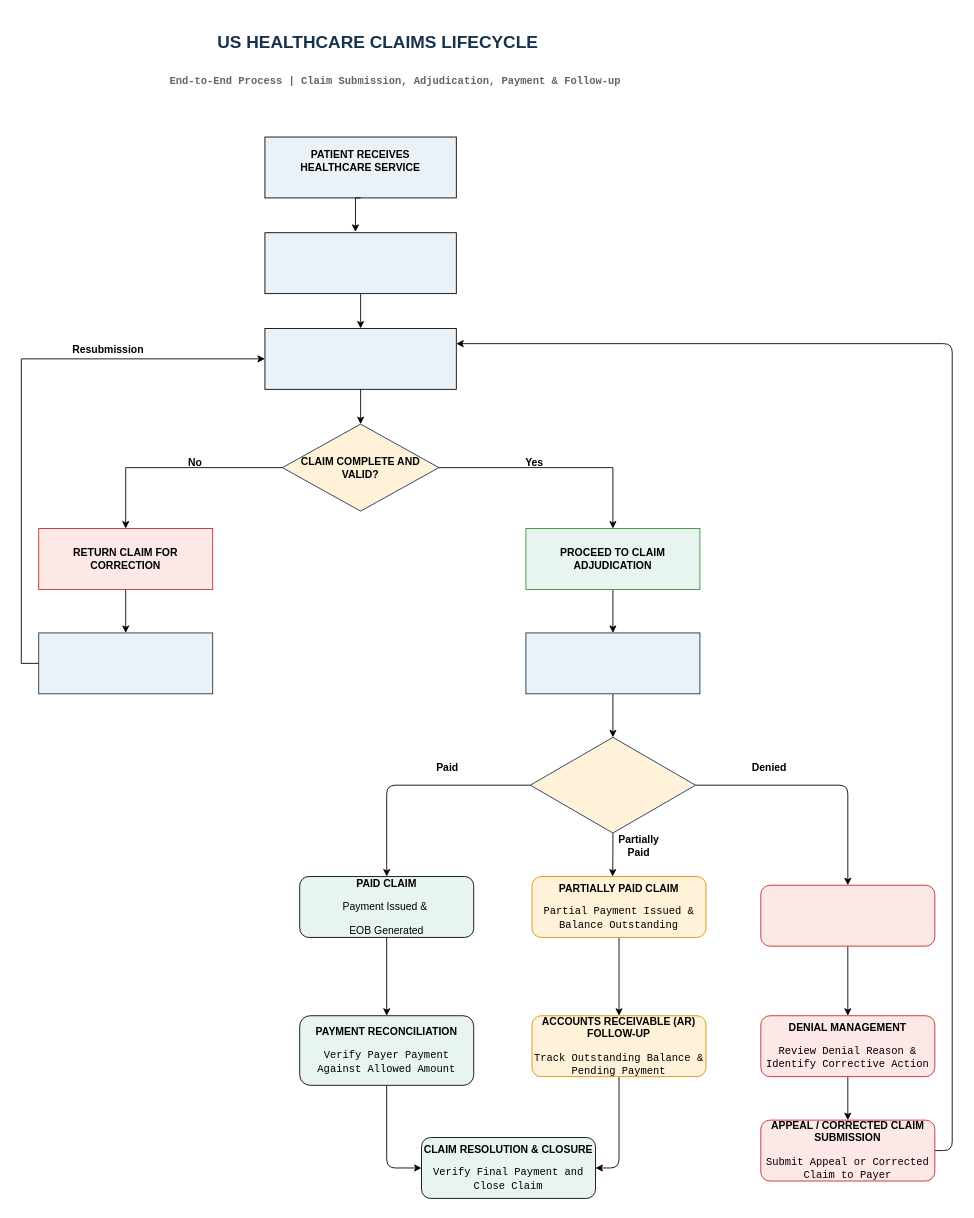
Image size: 974x1218. Some labels were removed from this diagram. Each missing label, with the box of its shape:
DENIED CLAIM Denial Reason Communicated: (760, 884, 935, 946)
PAYER ADJUDICATES CLAIM: (525, 632, 700, 694)
PAYER RECEIVES AND VALIDATES CLAIM: (264, 328, 456, 389)
PROVIDER CORRECTS AND RESUBMITS CLAIM: (38, 632, 213, 694)
PROVIDER PREPARES AND SUBMITS CLAIM: (264, 232, 456, 294)
WHAT IS THE CLAIM OUTCOME?: (529, 736, 696, 833)
